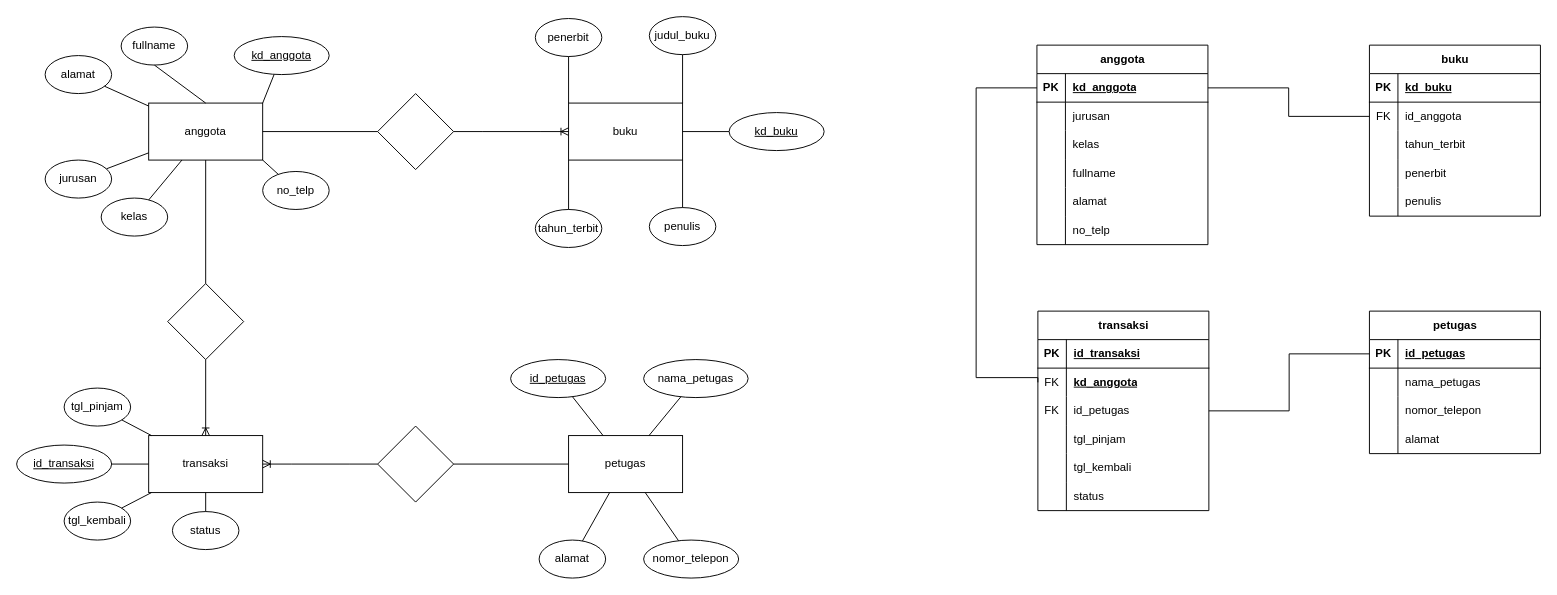
Image size: 1557x595. Some labels were removed from this diagram. The shapes that lost their labels are listed below. From the top down, each one's centre as x and y in pixels, then its label:
At (415,131): "meminjam".
At (205,321): "melakukan".
At (415,463): "dicatat".
